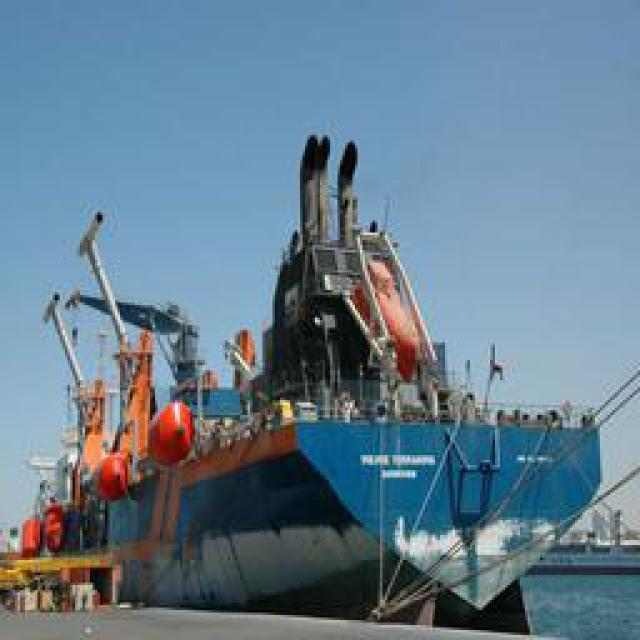Ship: (34, 130, 614, 610)
